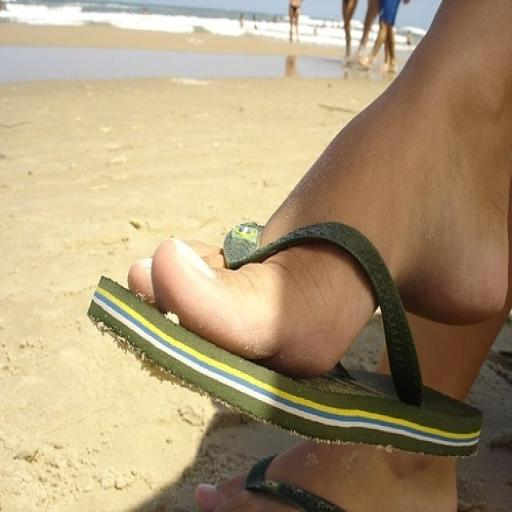sandal: (89, 223, 481, 456)
